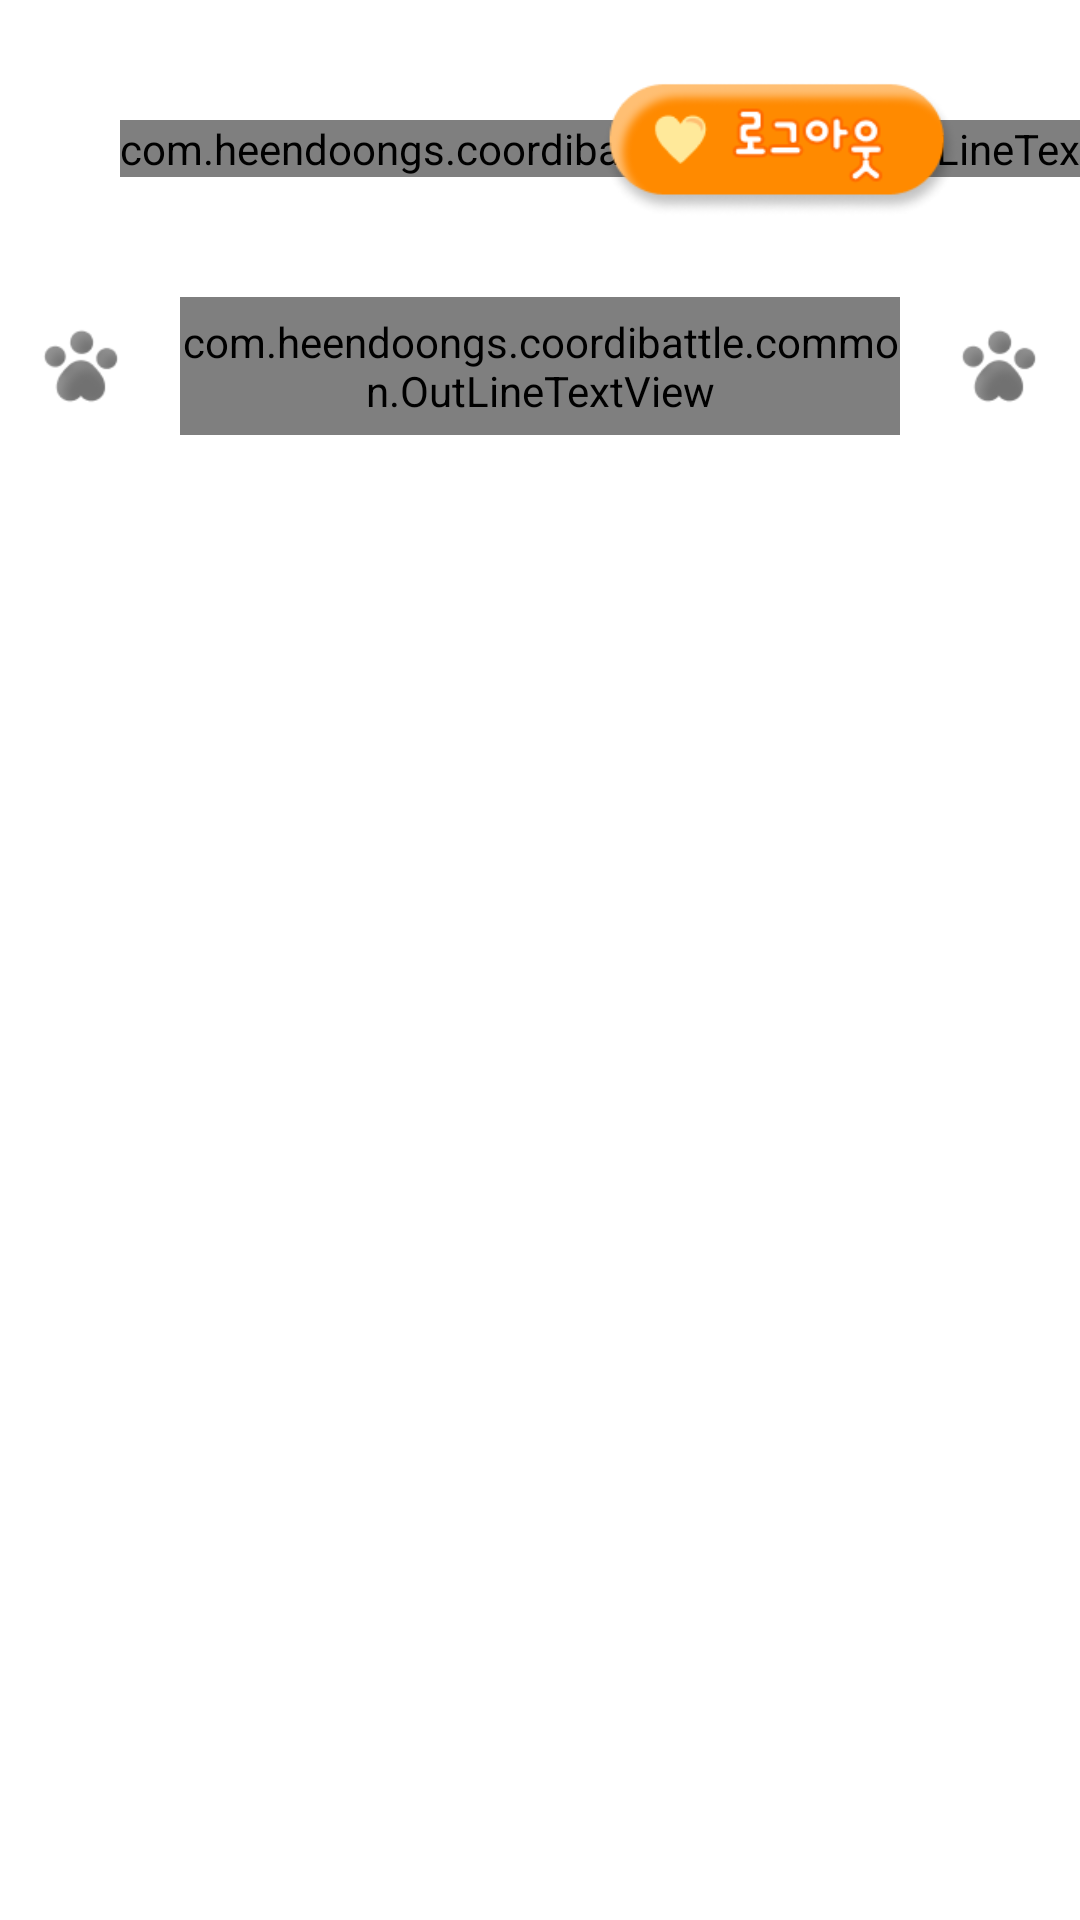

Screen size 1080 x 1920. Icon name, then its center in pixels as (x=x, y=y):
paw: (x=81, y=366), (x=999, y=366)
